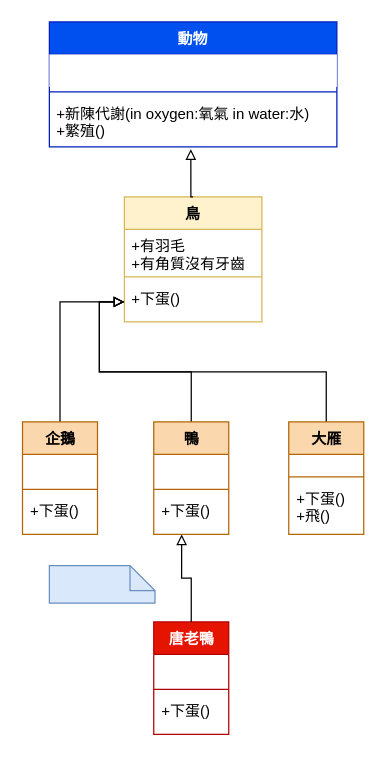
Image size: 385x760. Some labels were removed from this diagram. The centre of each missing label's shape, as x and y in pixels:
+有生命: (x=192, y=70)
繼承關係: (x=101, y=583)
